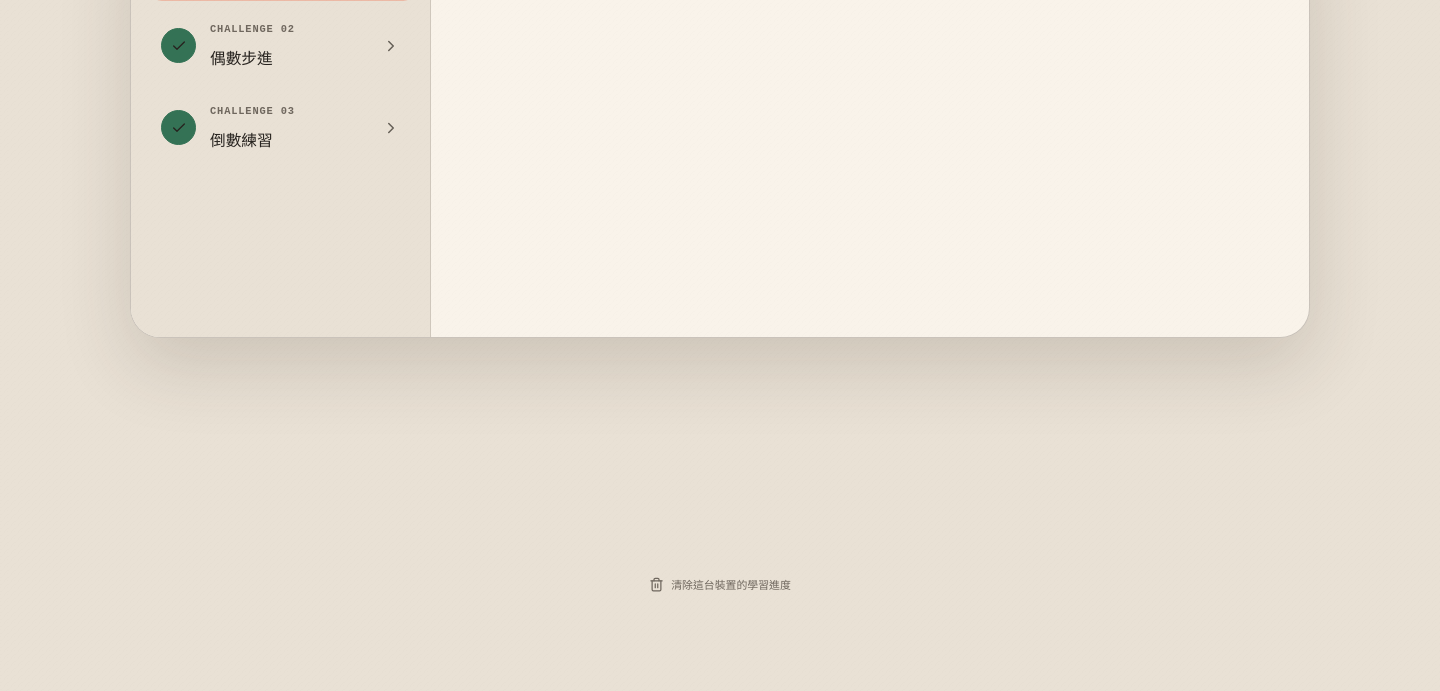
Scenario: ForLoopLabPage challenges and local progress › requires confirmation before clearing saved progress and restores defaults
This screenshot has width=1440, height=691.
(page scrolled)
What coordinates should you click on to do the following:
click the button "清除這台裝置的學習進度"
I would click on:
 (720, 584)
Its box is [635,562,805,606].
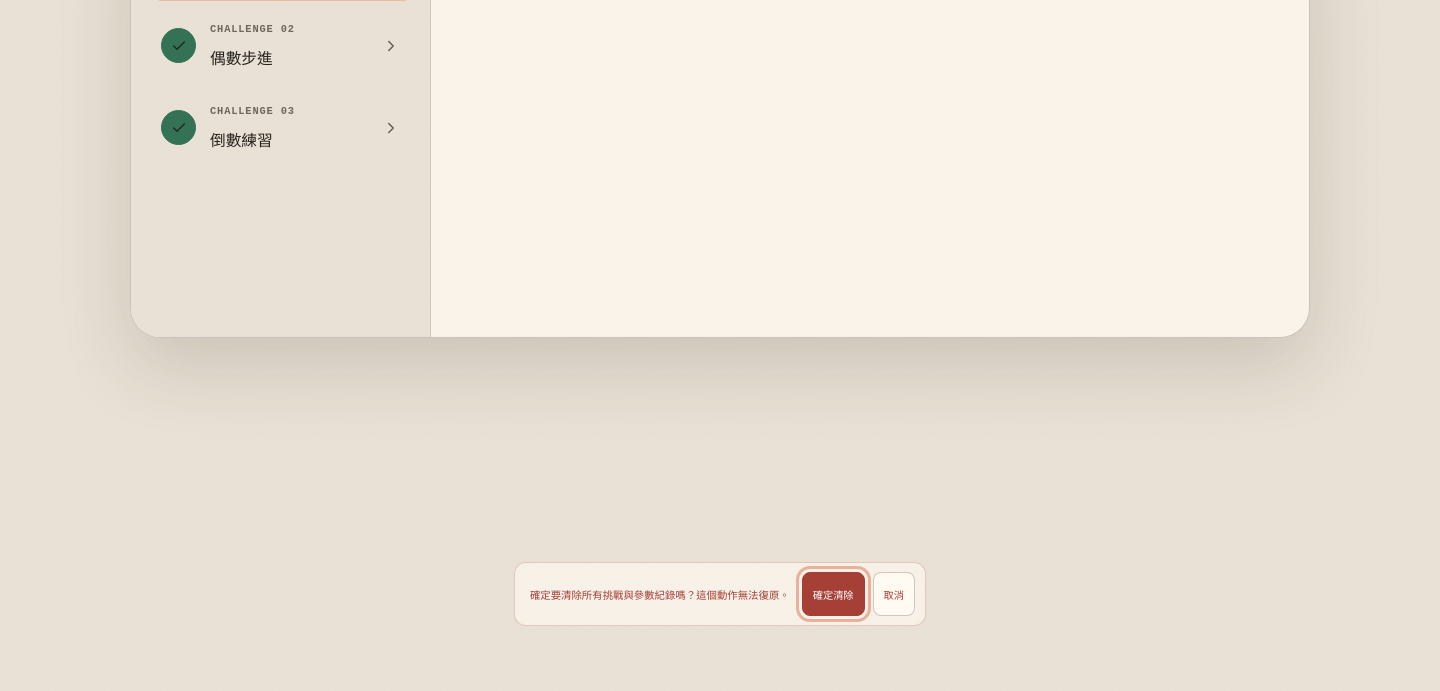
Expected: the dialog shows "這個動作無法復原", [530,589,790,602]
What coordinates should you click on to do the following:
click the button "取消"
I would click on:
 (894, 594)
Its box is [873,572,915,616].
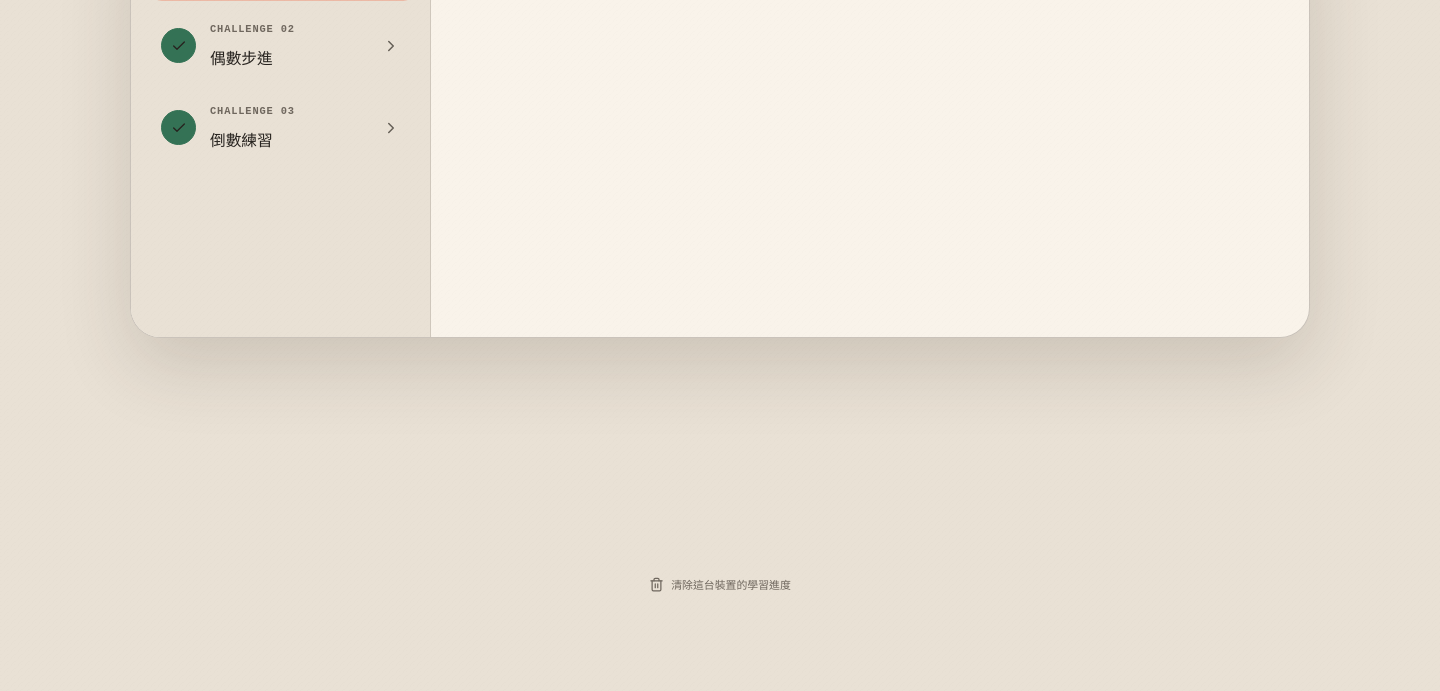
What coordinates should you click on to do the following:
click the button "清除這台裝置的學習進度"
I would click on:
 (720, 584)
Its box is [635,562,805,606].
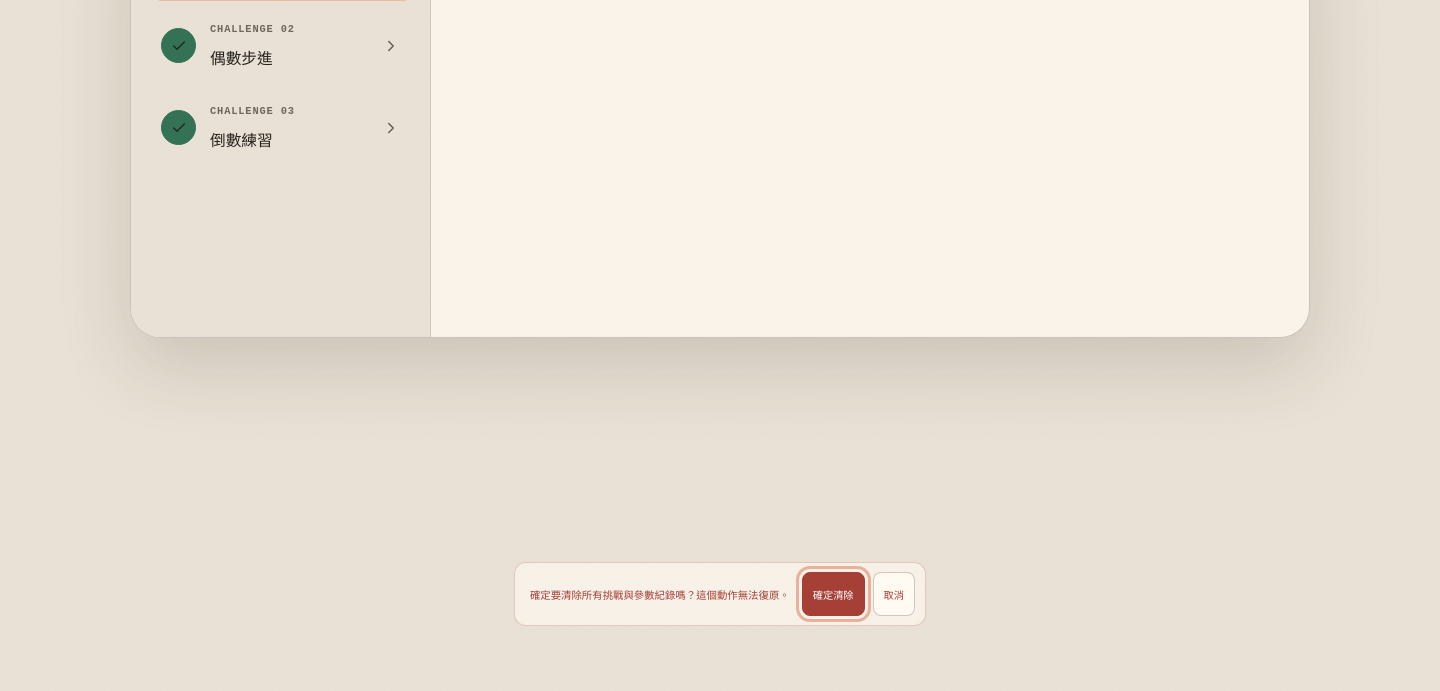
What coordinates should you click on to do the following:
click the button "確定清除"
I would click on:
 (833, 594)
Its box is [802,572,865,616].
(page scrolled)
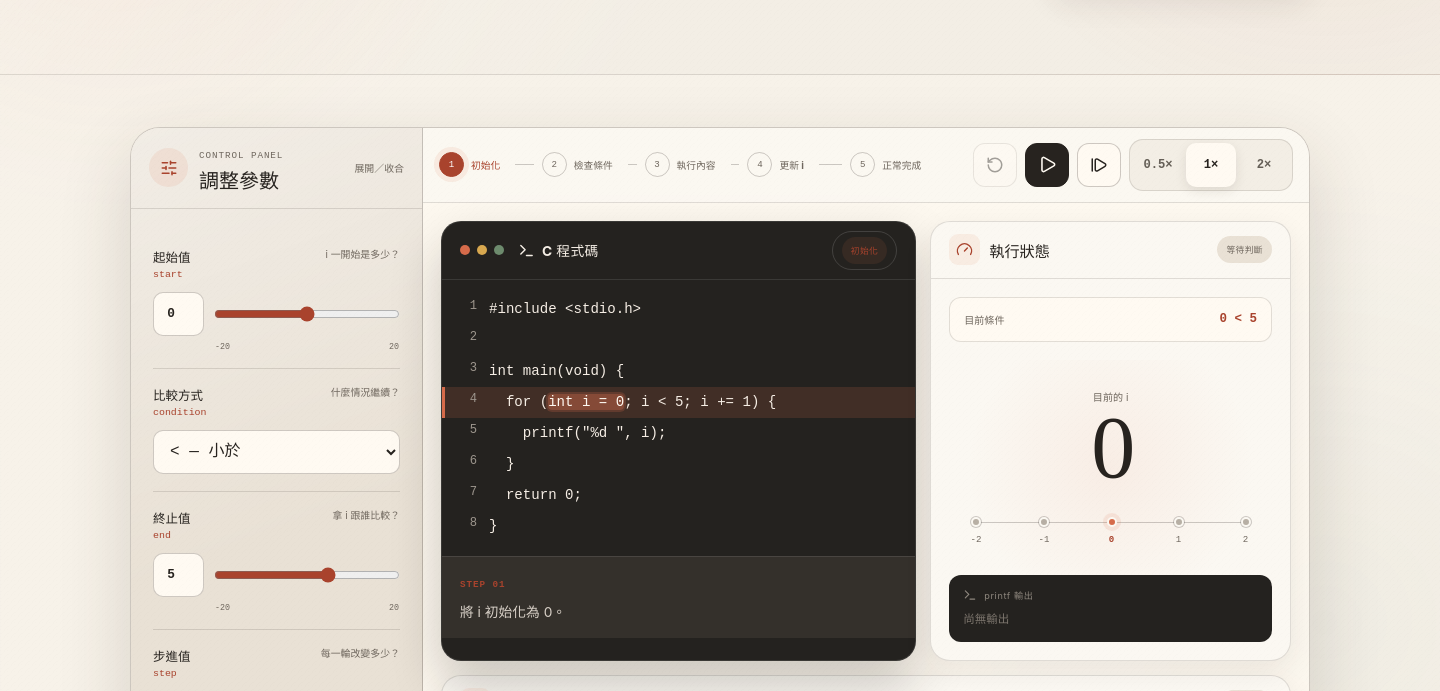
Expected: the number field labelled "起始值 start" holds "0", [153,292,204,336]
